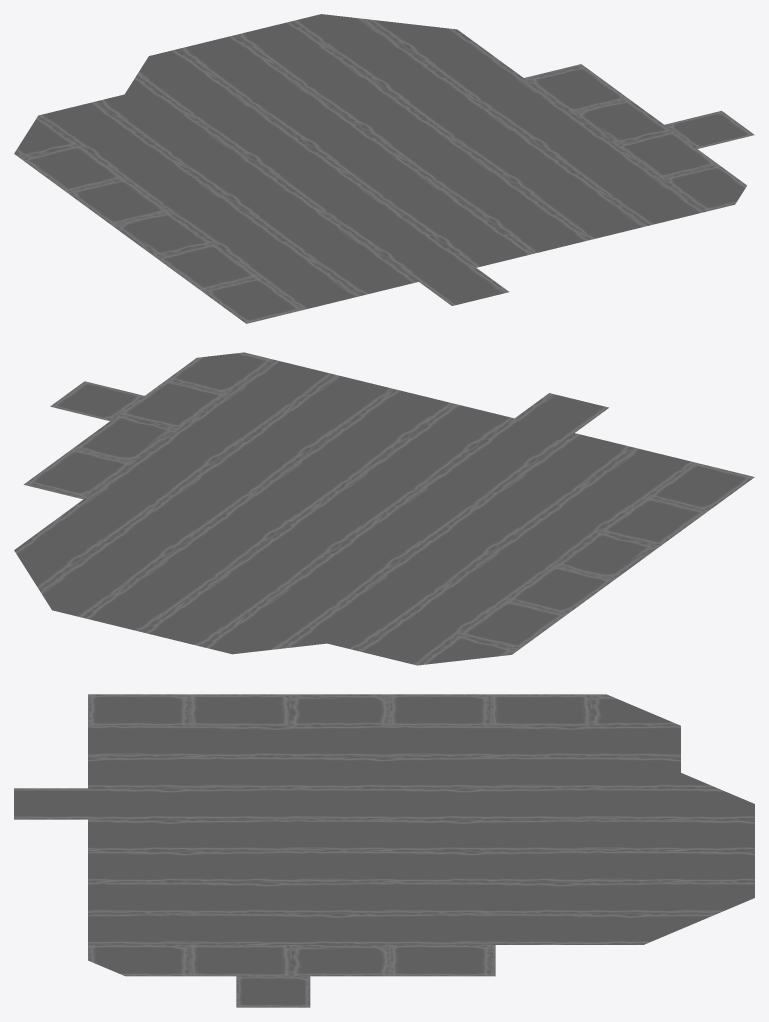
File: Floor001.fbx
3 views of the same model, one above another, from view 1: azimuth 30°, elevation 25°; view 2: azimuth 150°, elevation 25°; view 3: azimuth 270°, elevation 25° (orthographic). The views are drawn at different scales.
Parts seen in each view (by area): view 1: Floor001; view 2: Floor001; view 3: Floor001.
Boxes of the visible parts, <box> form: Floor001: <box>14,14,754,323</box>; Floor001: <box>14,352,754,665</box>; Floor001: <box>14,694,754,1007</box>.
Bounding box in the file's own units: 19.97 × 0 × 19.97.
